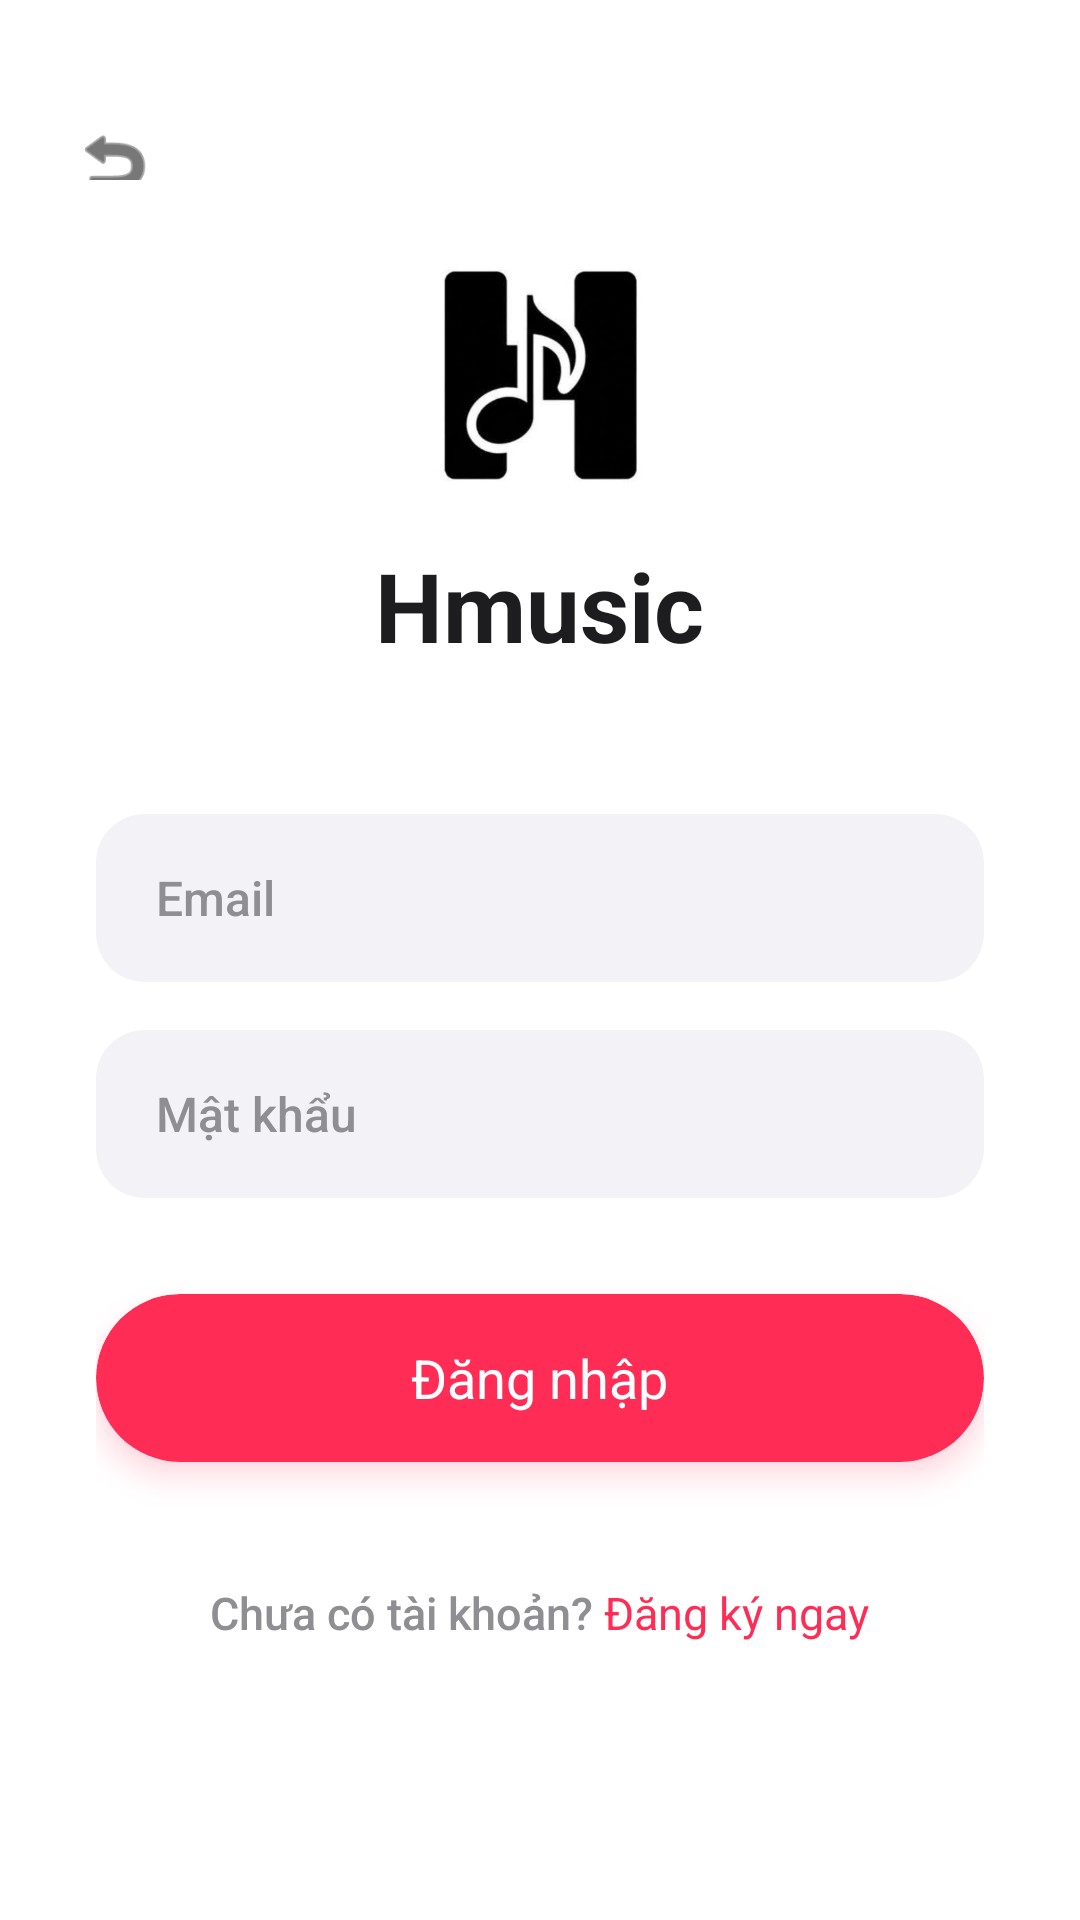

Locate icon controls on the screen. Image size 1080x1920, boxes as (left=x1, top=y1, right=x2, bottom=y2).
revert: (left=85, top=135, right=145, bottom=180)
